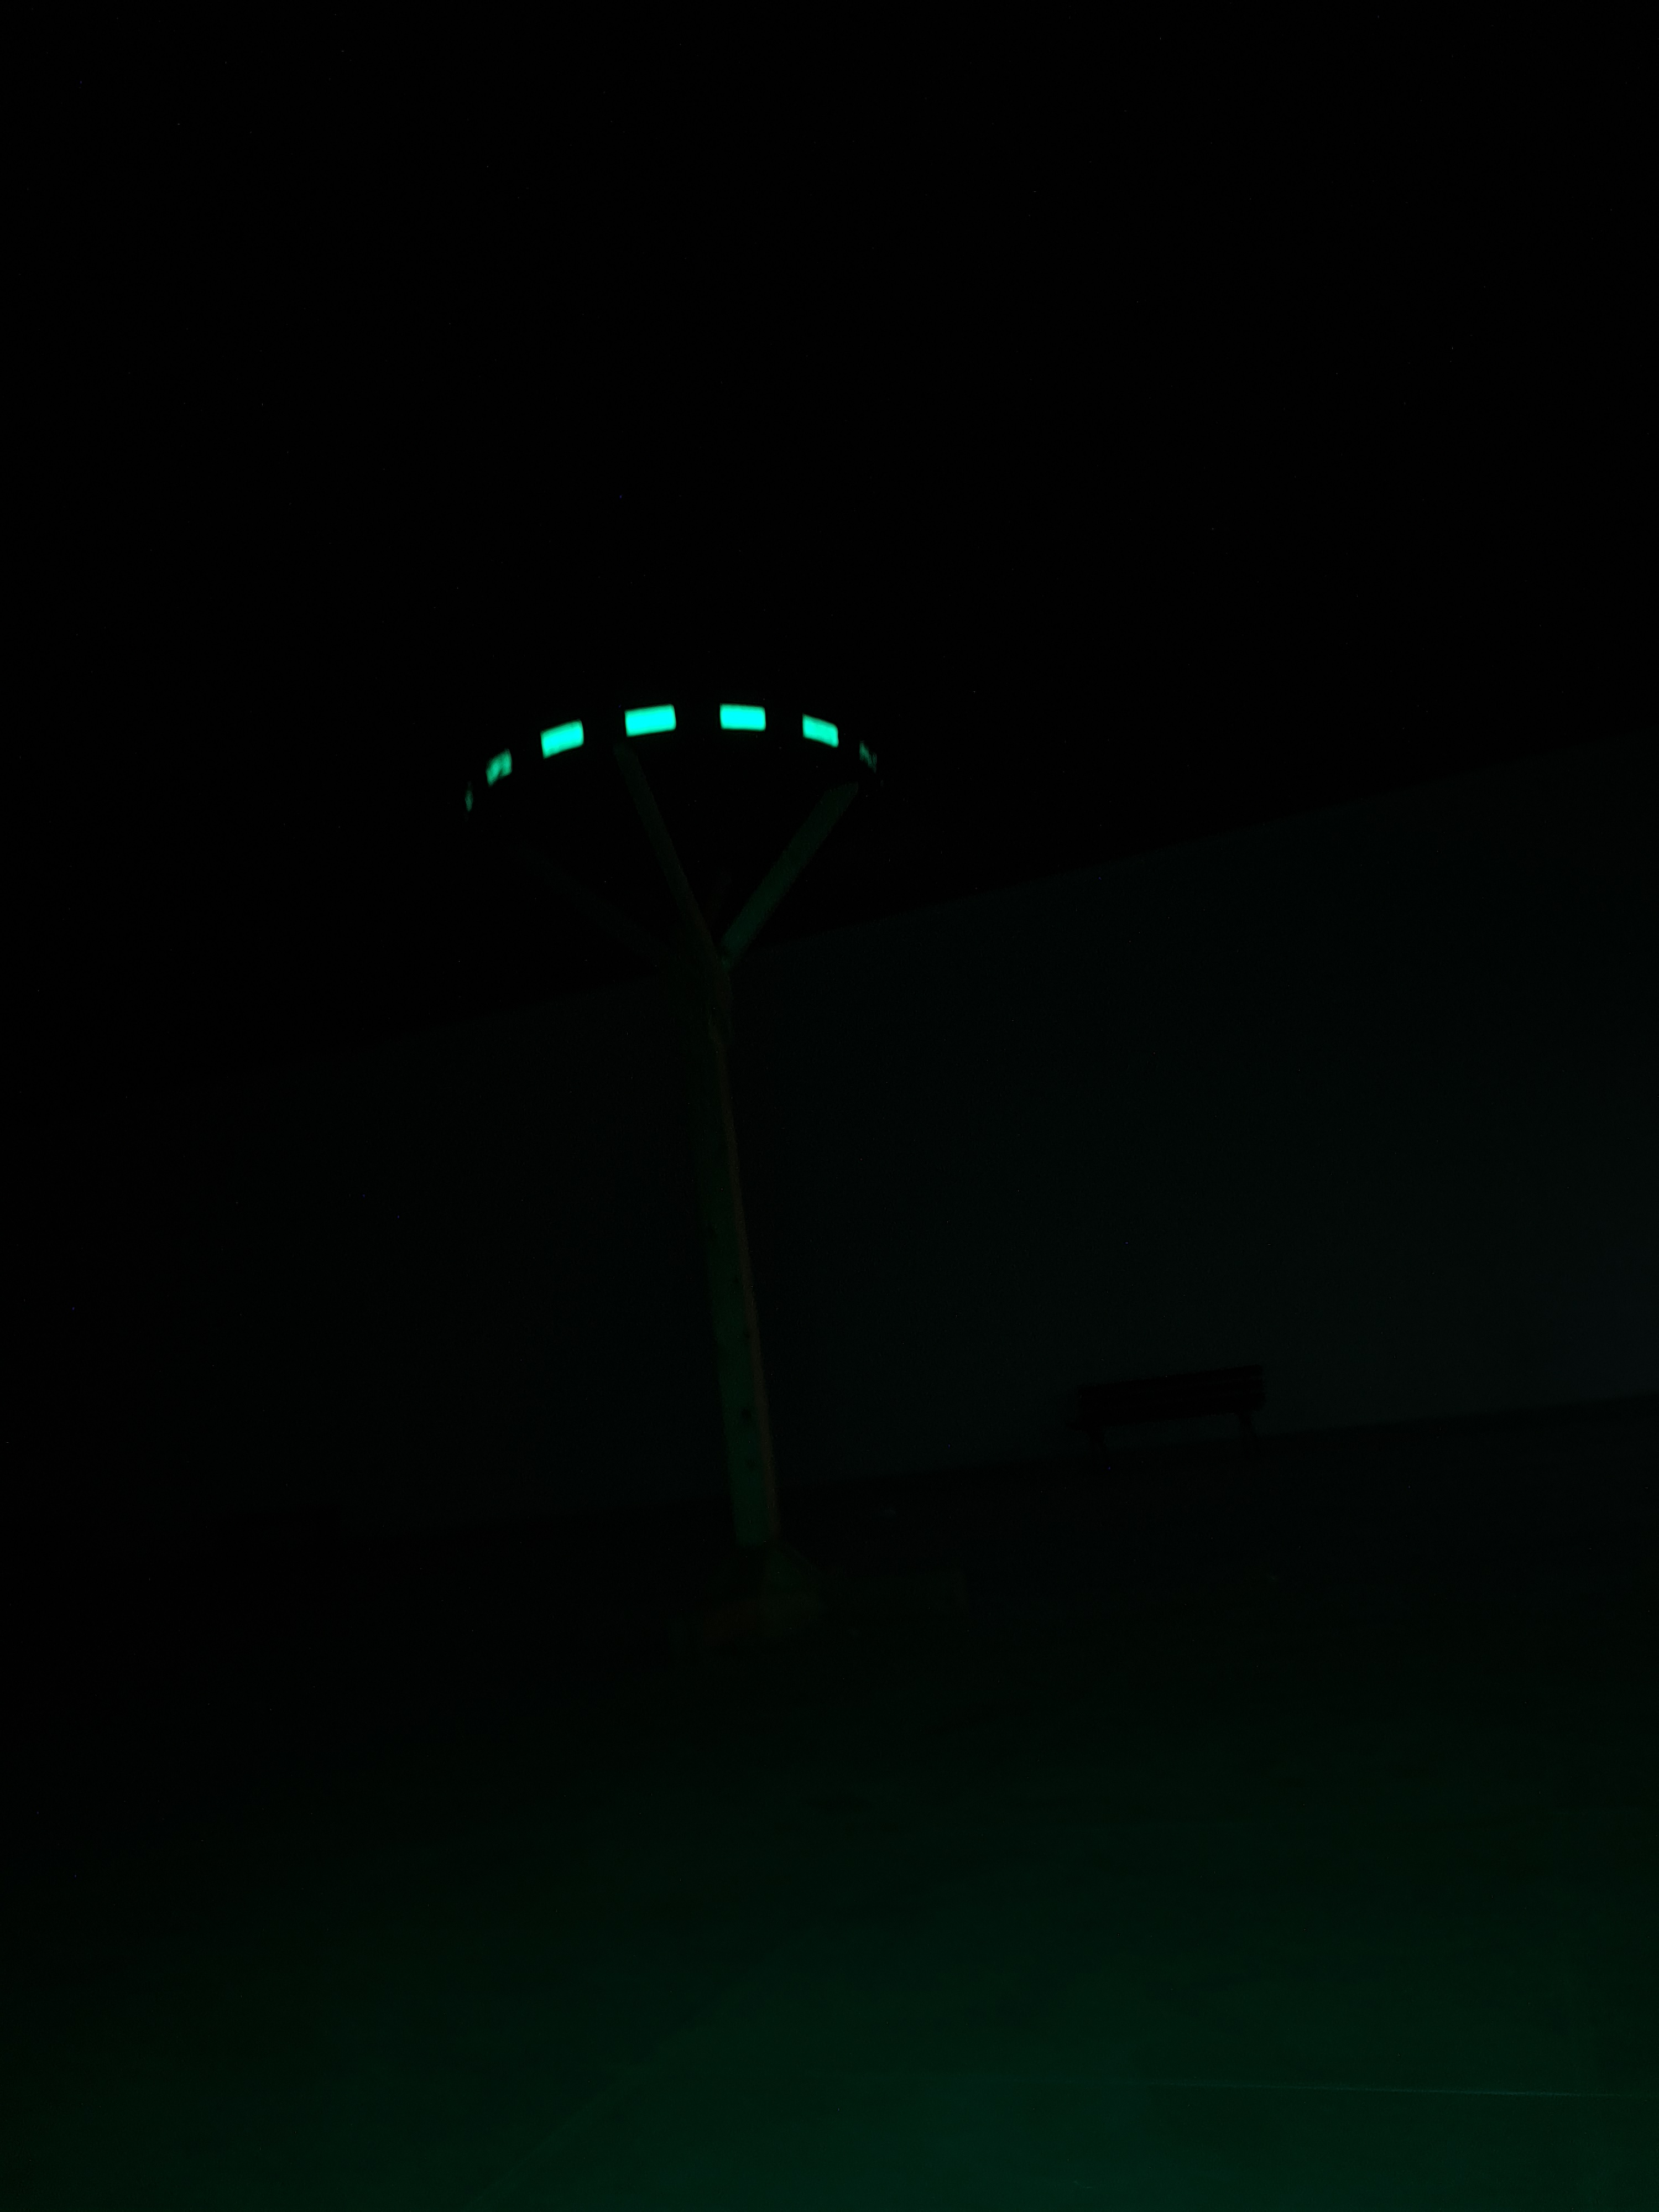hoop: (458, 698, 880, 815)
